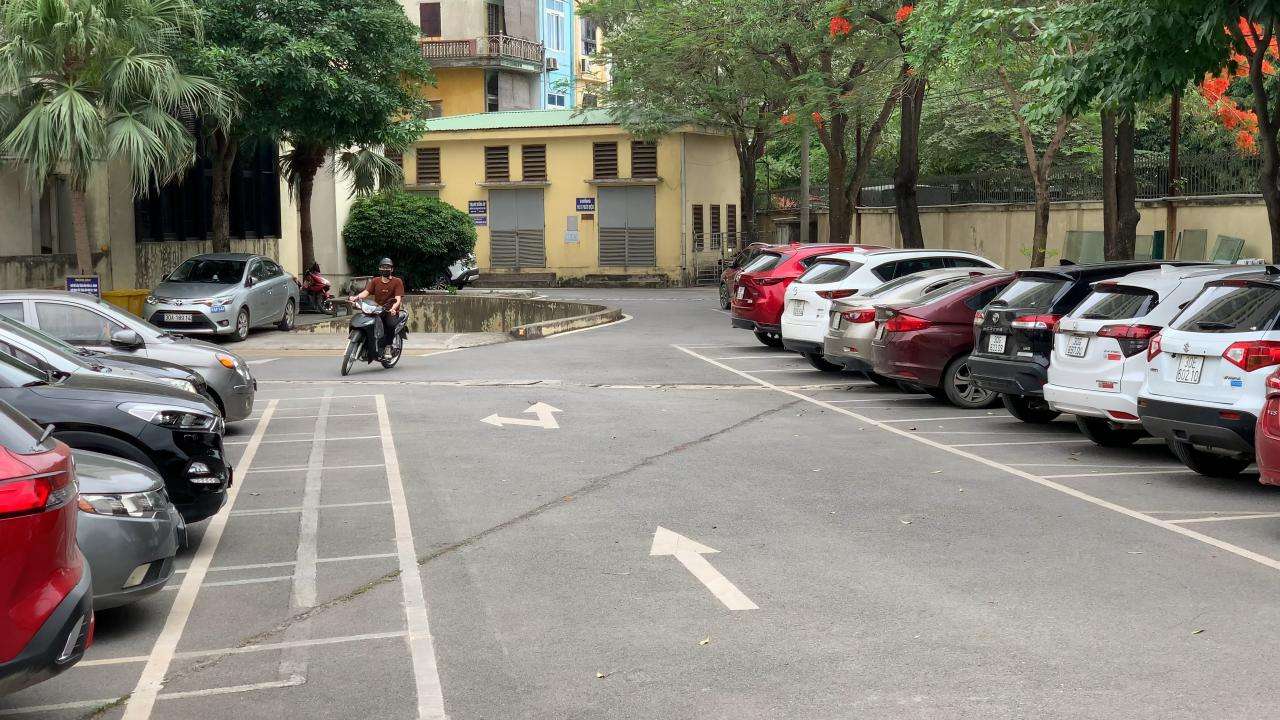helmet: (378, 257, 393, 266)
motorcyclist: (339, 257, 410, 377)
